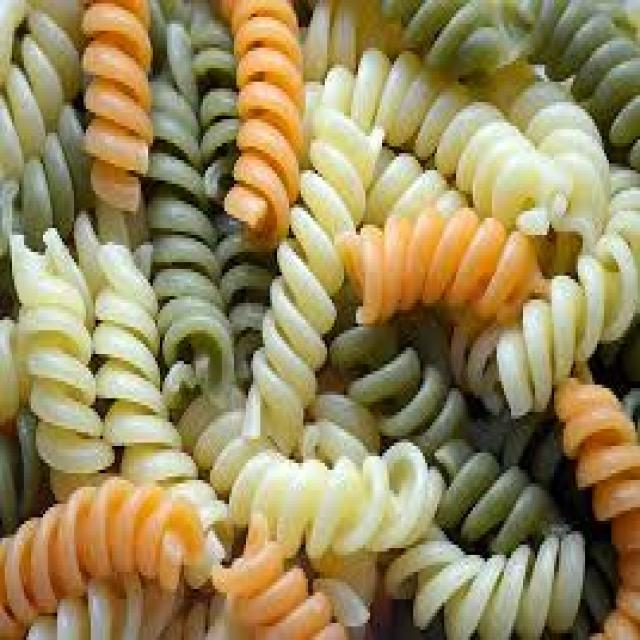organic waste: (88, 225, 232, 572), (241, 102, 385, 446), (172, 378, 444, 555), (298, 45, 559, 222), (428, 432, 618, 634), (0, 469, 201, 636), (394, 460, 583, 633), (480, 211, 638, 415), (7, 225, 115, 500), (189, 17, 272, 374), (478, 58, 611, 242), (208, 0, 301, 245), (497, 0, 638, 160), (334, 214, 544, 320), (561, 381, 638, 637), (324, 316, 466, 452), (0, 102, 91, 296), (210, 511, 346, 636), (76, 0, 153, 211), (0, 0, 79, 184), (21, 572, 196, 637), (375, 0, 506, 75), (0, 310, 41, 531), (476, 408, 568, 494), (298, 0, 398, 78), (423, 317, 511, 405), (315, 555, 375, 630), (604, 164, 638, 248), (0, 0, 21, 78)
